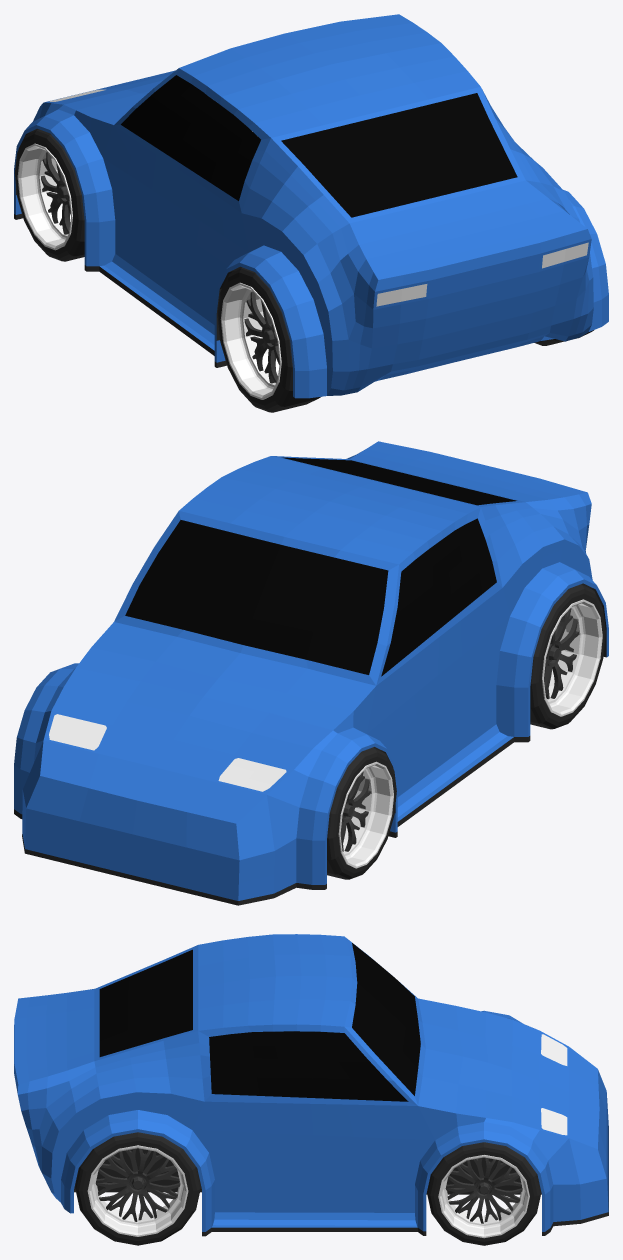
Rendered from car.fbx.
3 views of the same model, one above another, from view 1: azimuth 30°, elevation 25°; view 2: azimuth 150°, elevation 25°; view 3: azimuth 270°, elevation 25° (orthographic). The views are drawn at different scales.
Visible parts, largest first — view 1: Circle.006, GlassBack, GlassMid, Circle.015, Circle.013, BackGlassLight; view 2: Circle.006, GlassFront, GlassMid, Circle.015, Circle.013, FrontGlassLight, GlassBack; view 3: Circle.006, GlassMid, Circle.015, Circle.013, GlassBack, GlassFront, FrontGlassLight.
Part boxes in pixels (x1=…): Circle.006: x1=14, y1=14, x2=608, y2=398; GlassBack: x1=281, y1=93, x2=517, y2=217; GlassMid: x1=121, y1=75, x2=260, y2=200; Circle.015: x1=217, y1=267, x2=593, y2=412; Circle.013: x1=14, y1=129, x2=84, y2=261; BackGlassLight: x1=376, y1=242, x2=588, y2=306; Circle.006: x1=14, y1=441, x2=608, y2=905; GlassFront: x1=125, y1=520, x2=388, y2=674; GlassMid: x1=381, y1=518, x2=496, y2=676; Circle.015: x1=530, y1=584, x2=605, y2=729; Circle.013: x1=327, y1=747, x2=396, y2=879; FrontGlassLight: x1=49, y1=714, x2=286, y2=791; GlassBack: x1=282, y1=457, x2=516, y2=505; Circle.006: x1=14, y1=934, x2=608, y2=1236; GlassMid: x1=209, y1=1031, x2=408, y2=1101; Circle.015: x1=75, y1=1132, x2=200, y2=1245; Circle.013: x1=427, y1=1142, x2=541, y2=1245; GlassBack: x1=99, y1=949, x2=192, y2=1056; GlassFront: x1=352, y1=943, x2=420, y2=1095; FrontGlassLight: x1=541, y1=1034, x2=567, y2=1135.
Bounding box in the file's own units: 614 × 448 × 1169.
